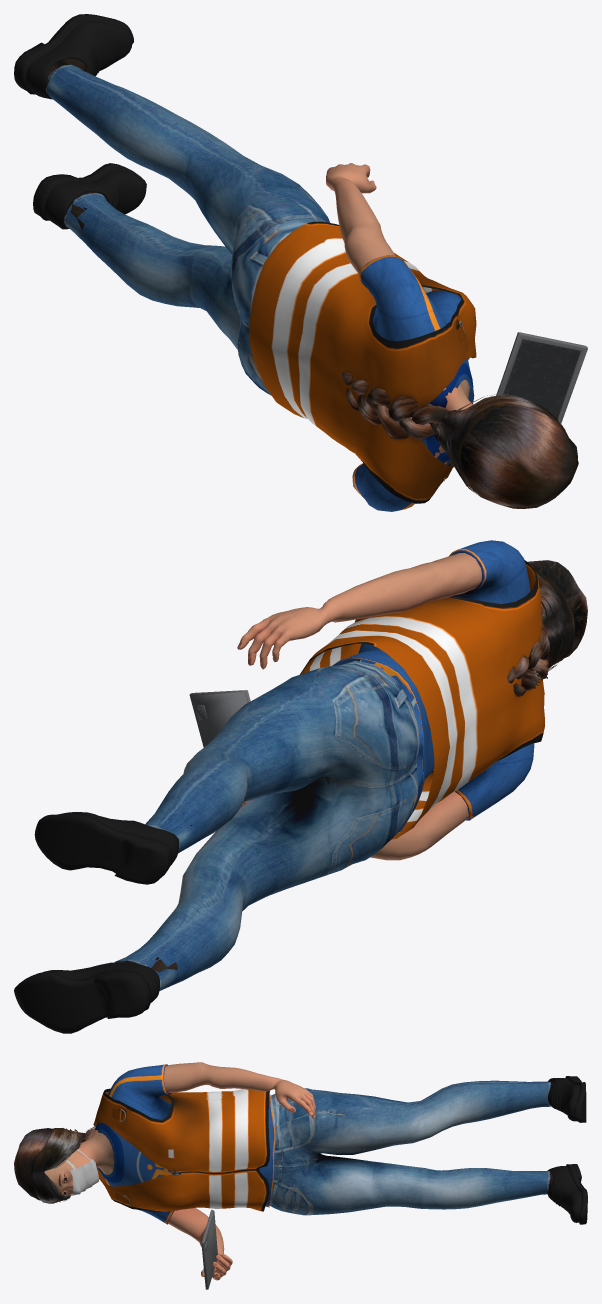
File: worker_tablet_log.obj
The picture shows the model from 3 angles, top to bottom: view 1: azimuth 30°, elevation 25°; view 2: azimuth 150°, elevation 25°; view 3: azimuth 270°, elevation 25°; orthographic projection. The views are drawn at different scales.
Visible parts, largest first — view 1: worker_tablet_log; view 2: worker_tablet_log; view 3: worker_tablet_log.
Part boxes in pixels (<box>): worker_tablet_log: <box>14,14,587,511</box>; worker_tablet_log: <box>14,540,587,1033</box>; worker_tablet_log: <box>14,1062,587,1289</box>.
Size of the model in its own units: 0.603 by 0.5723 by 1.69.
8 materials, 8 textured.
